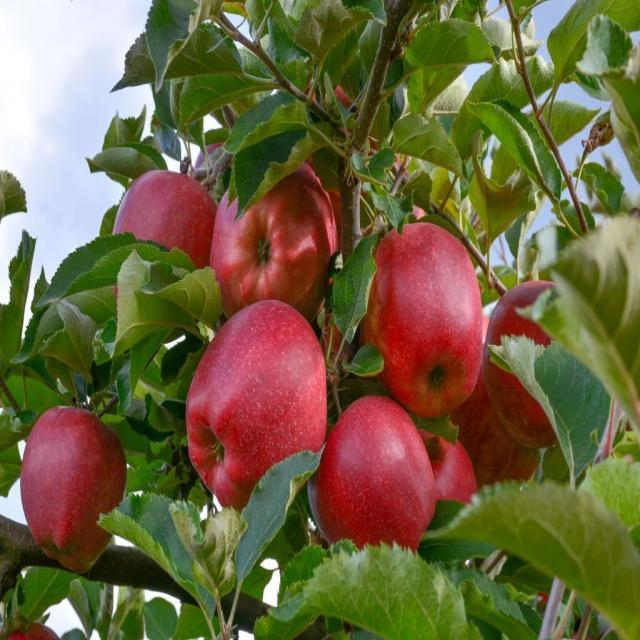Red Apple: (186, 303, 331, 484), (371, 225, 487, 415), (316, 394, 435, 554), (219, 162, 332, 321), (24, 405, 125, 565), (490, 284, 585, 444), (115, 172, 220, 305), (463, 323, 546, 483), (417, 414, 485, 521)
